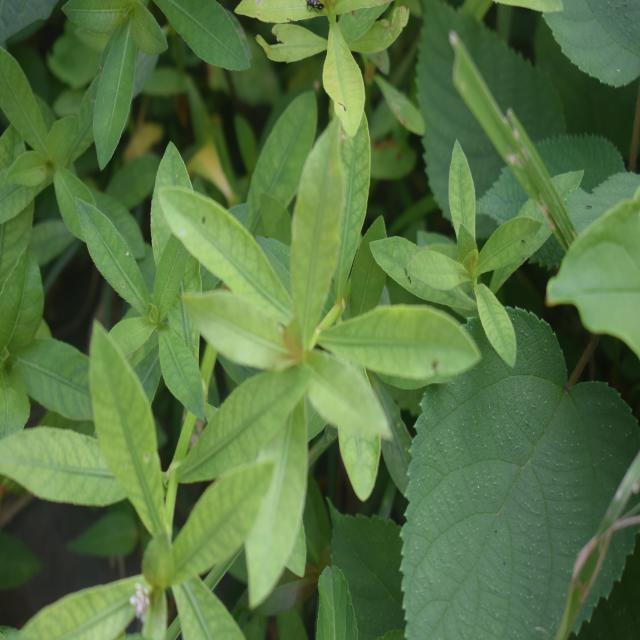Alligatorweed: (168, 152, 456, 493), (23, 374, 286, 613)
